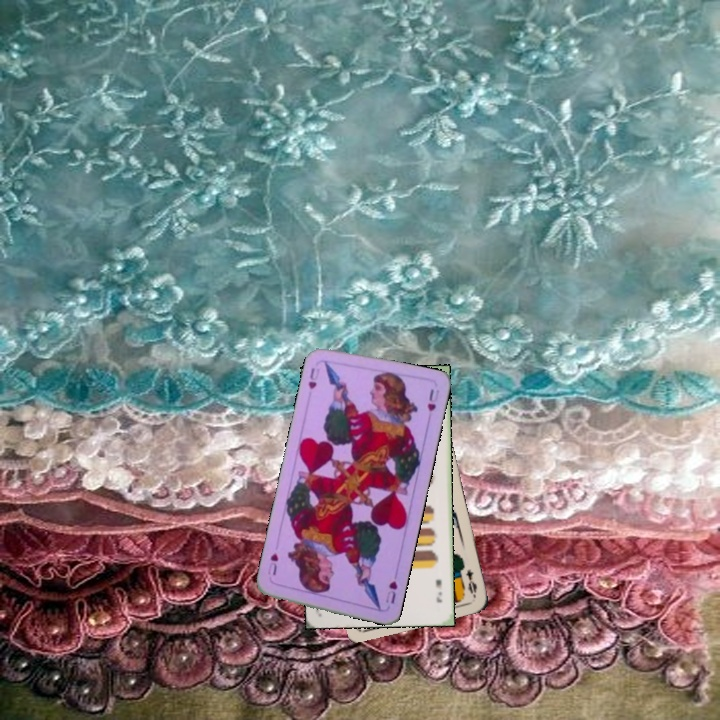E7: (432, 575, 445, 605)
EO: (462, 565, 480, 601)
HU: (381, 576, 400, 606), (304, 363, 319, 392)
